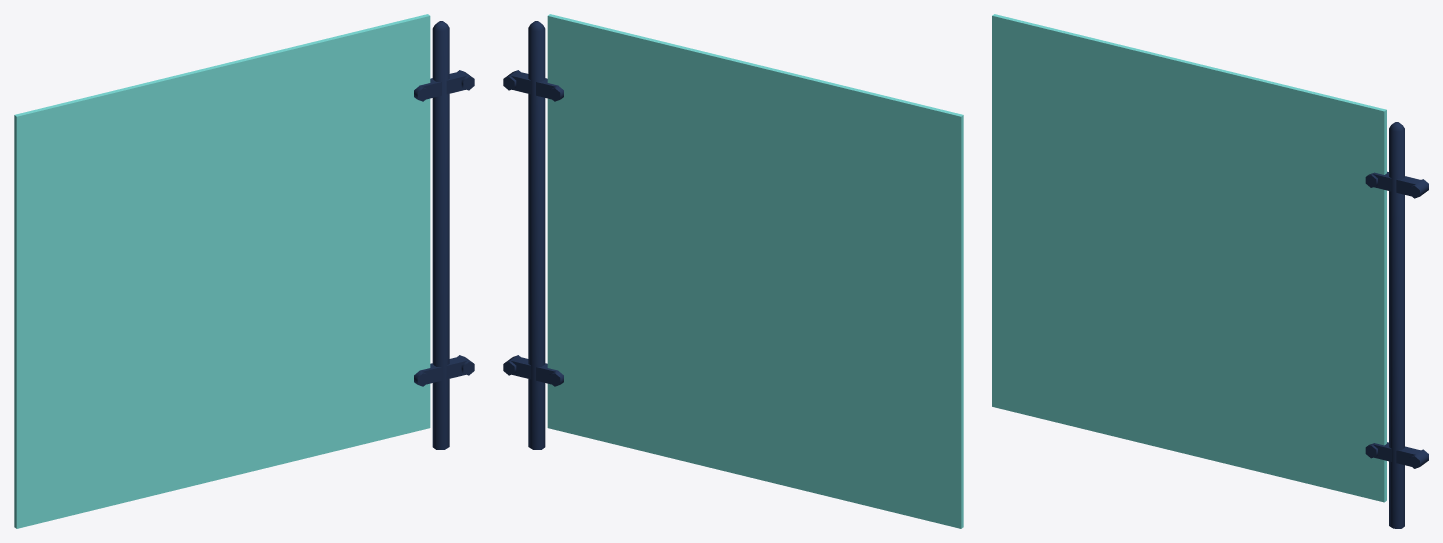
The model's file is Rail Test2.fbx.
3 views of the same model, side by side, from view 1: azimuth 30°, elevation 25°; view 2: azimuth 150°, elevation 25°; view 3: azimuth 330°, elevation 25° (orthographic). The views are drawn at different scales.
Parts seen in each view (by area): view 1: Cube.001; view 2: Cube.001; view 3: Cube.001.
Part boxes in pixels (x1,y1,x2,y2): Cube.001: (14, 14, 474, 528); Cube.001: (503, 14, 963, 528); Cube.001: (992, 14, 1428, 528).
Size of the model in its own units: 1.04 by 0.95 by 0.0375.
